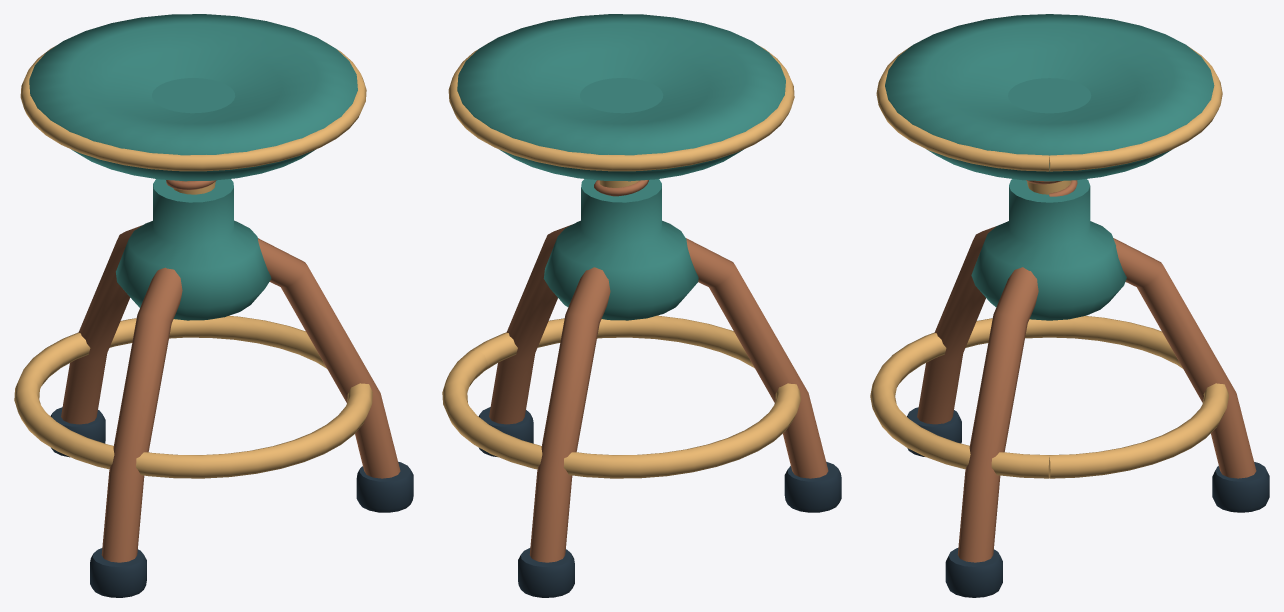
3 views of the same model, side by side, from view 1: azimuth 30°, elevation 25°; view 2: azimuth 150°, elevation 25°; view 3: azimuth 270°, elevation 25° (orthographic).
Visible parts, largest first — view 1: PR144 enamel and hardware; view 2: PR144 enamel and hardware; view 3: PR144 enamel and hardware.
Boxes of the visible parts, bbox=[...] form: PR144 enamel and hardware: bbox=[14, 14, 413, 597]; PR144 enamel and hardware: bbox=[442, 14, 841, 597]; PR144 enamel and hardware: bbox=[870, 14, 1269, 597].
Size of the model in its own units: 0.527 by 0.65 by 0.5413.
